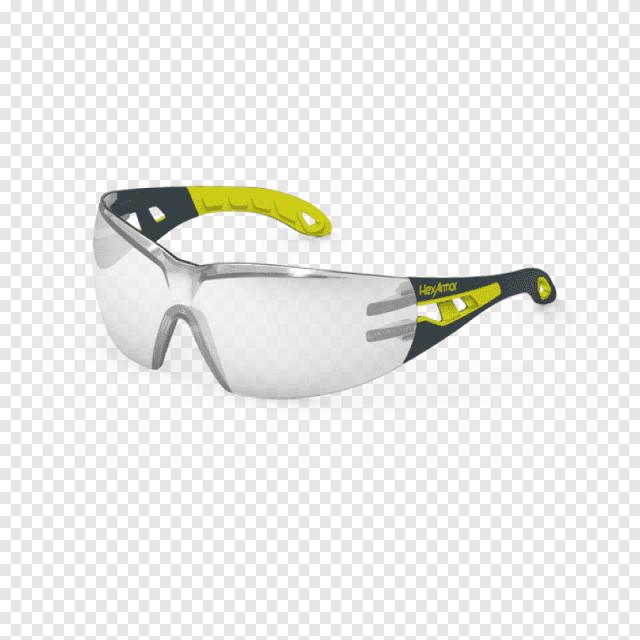Protective Glasses: (77, 168, 566, 423)
